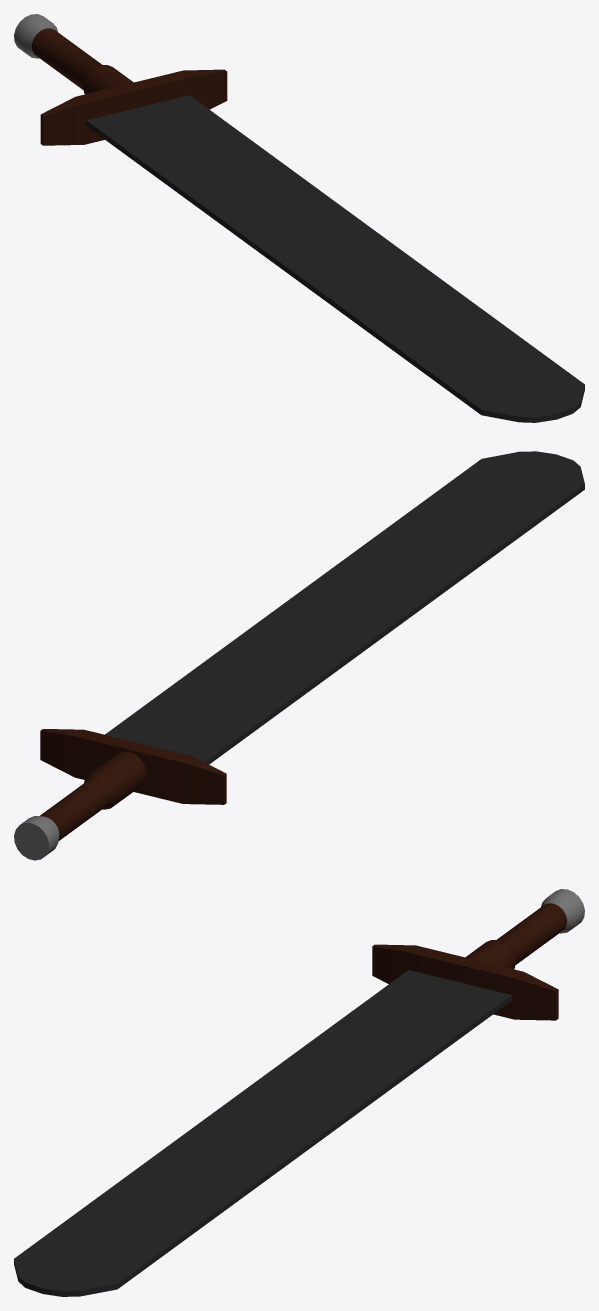
File: Executioner Sword Xander.FBX
The picture shows the model from 3 angles, top to bottom: view 1: azimuth 30°, elevation 25°; view 2: azimuth 150°, elevation 25°; view 3: azimuth 330°, elevation 25°; orthographic projection.
Parts seen in each view (by area): view 1: Zwaard; view 2: Zwaard; view 3: Zwaard.
Boxes of the visible parts, <box> form: Zwaard: <box>14,14,584,422</box>; Zwaard: <box>14,451,584,860</box>; Zwaard: <box>14,889,584,1296</box>.
Bounding box in the file's own units: 0.0699 × 0.015 × 0.3455.
